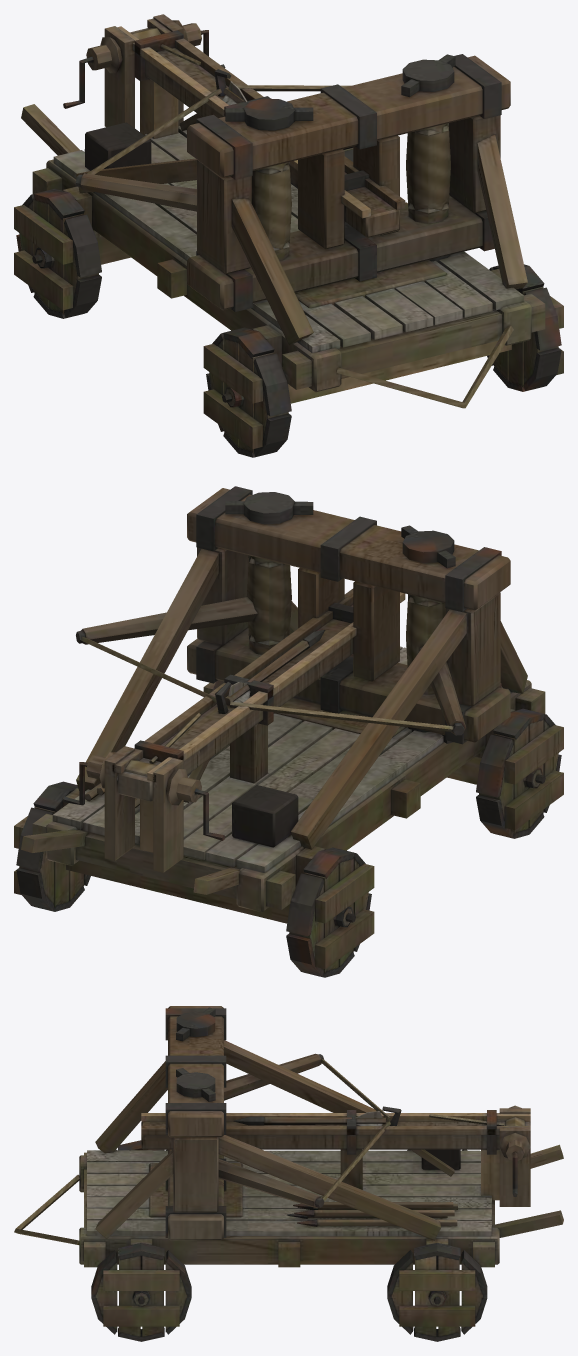
The model's file is springald.glb.
The picture shows the model from 3 angles, top to bottom: view 1: azimuth 30°, elevation 25°; view 2: azimuth 150°, elevation 25°; view 3: azimuth 270°, elevation 25°; orthographic projection. The views are drawn at different scales.
Parts seen in each view (by area): view 1: body_LOD0, wheel_fr, wheel_rr, wheel_fl, bow_r, bow_l; view 2: body_LOD0, wheel_rr, wheel_fr, wheel_rl, bow_l, bow_r, bolt; view 3: body_LOD0, wheel_fl, wheel_rl, bow_l, bow_r, bolt.
Boxes of the visible parts, left/top/right/bottom form: body_LOD0: left=21, top=14, right=545, bottom=408; wheel_fr: left=203, top=327, right=291, bottom=457; wheel_rr: left=14, top=188, right=101, bottom=318; wheel_fl: left=487, top=264, right=563, bottom=391; bow_r: left=76, top=88, right=221, bottom=211; bow_l: left=236, top=85, right=350, bottom=91; body_LOD0: left=21, top=486, right=545, bottom=923; wheel_rr: left=286, top=847, right=374, bottom=977; wheel_fr: left=476, top=708, right=563, bottom=838; wheel_rl: left=14, top=781, right=90, bottom=911; bow_l: left=76, top=597, right=257, bottom=702; bow_r: left=230, top=646, right=465, bottom=735; bolt: left=224, top=629, right=325, bottom=705; body_LOD0: left=14, top=1006, right=563, bottom=1269; wheel_fl: left=91, top=1243, right=191, bottom=1341; wheel_rl: left=387, top=1243, right=487, bottom=1341; bow_l: left=218, top=1121, right=390, bottom=1208; bow_r: left=224, top=1053, right=390, bottom=1120; bolt: left=233, top=1111, right=385, bottom=1125.
Size of what is drawn, in the model's own units: 2.25 by 1.67 by 3.53.
1 material, 1 textured.
